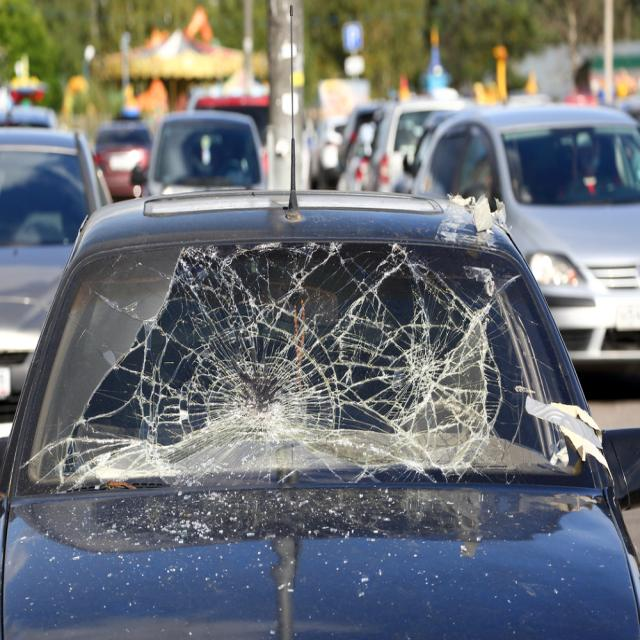Windshield: (73, 244, 544, 529)
